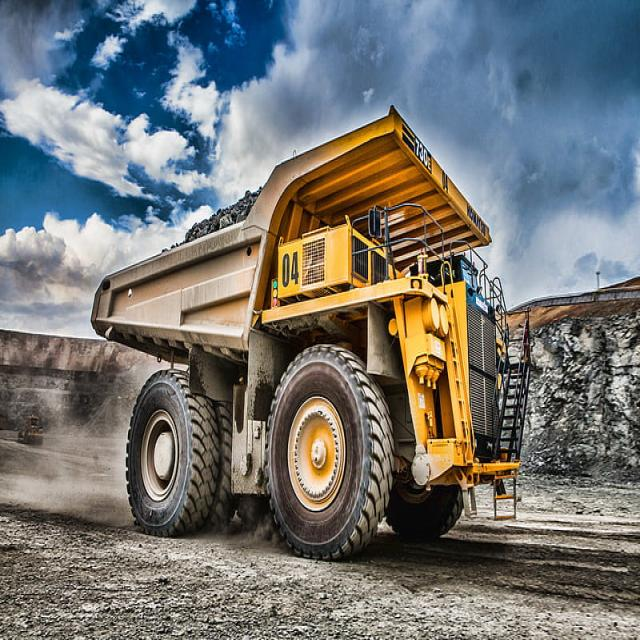dump_truck: (89, 104, 528, 555)
